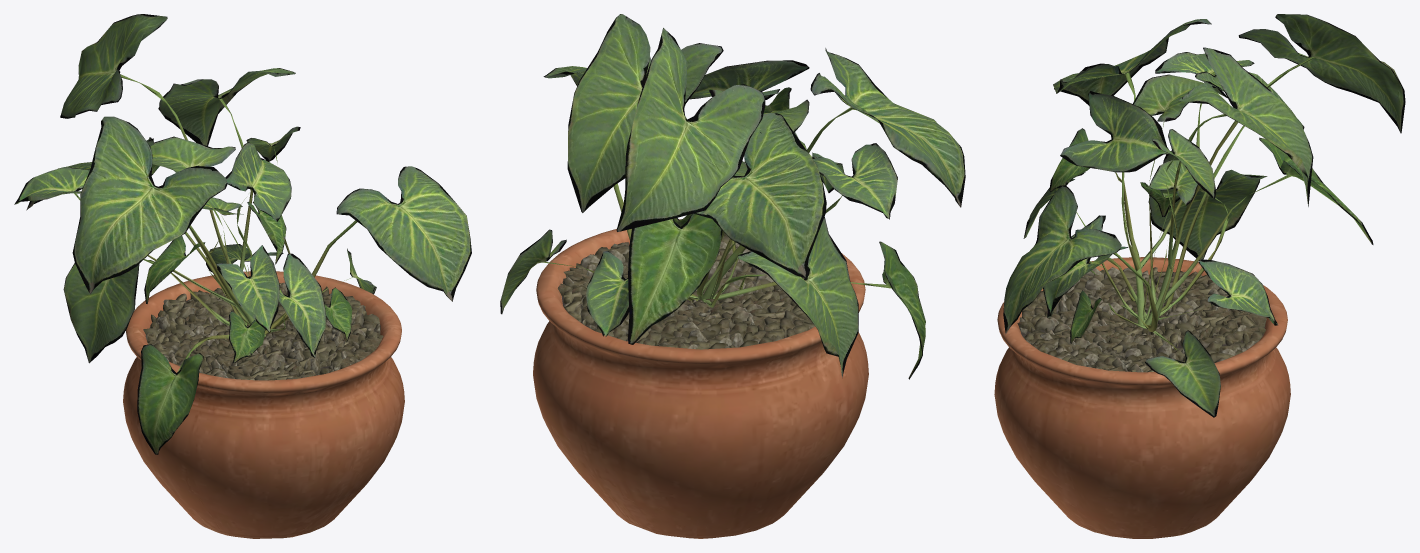
The model's file is potted_plant_02.glb.
3 renders of one model, left to right at view 1: azimuth 30°, elevation 25°; view 2: azimuth 150°, elevation 25°; view 3: azimuth 270°, elevation 25°, orthographic. The views are drawn at different scales.
Visible parts, largest first — view 1: potted_plant_02_leaves, potted_plant_02_pot; view 2: potted_plant_02_leaves, potted_plant_02_pot; view 3: potted_plant_02_pot, potted_plant_02_leaves.
Boxes of the visible parts, x1=… form: potted_plant_02_leaves: x1=14, y1=14, x2=471, y2=454; potted_plant_02_pot: x1=123, y1=271, x2=404, y2=538; potted_plant_02_leaves: x1=500, y1=14, x2=965, y2=379; potted_plant_02_pot: x1=533, y1=219, x2=868, y2=538; potted_plant_02_pot: x1=994, y1=257, x2=1290, y2=538; potted_plant_02_leaves: x1=1003, y1=14, x2=1405, y2=417.
Bounding box in the file's own units: 0.7012 × 0.8401 × 0.6574.
2 materials, 2 textured.
